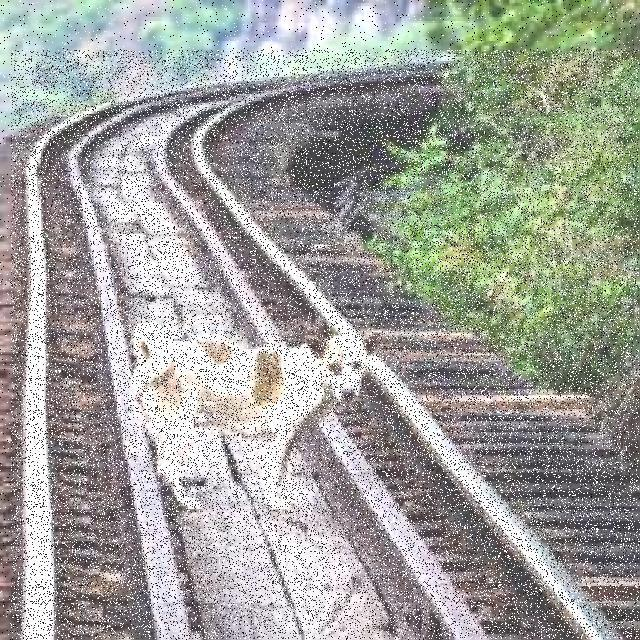danger: (116, 321, 378, 521)
rail: (12, 51, 640, 640)
